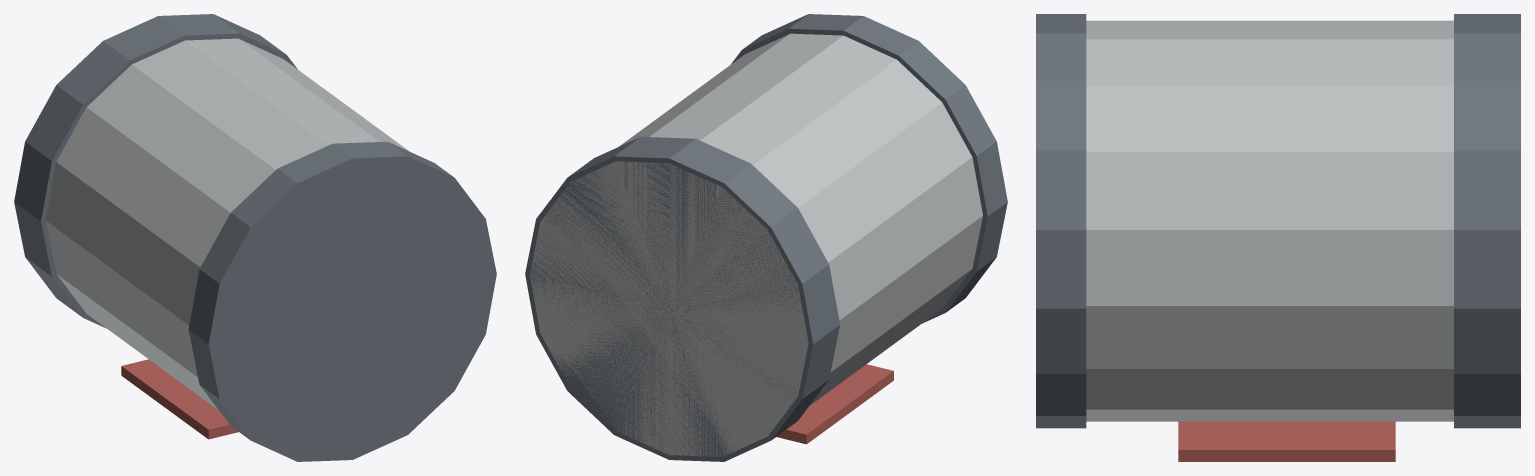
File: canned_beans.glb
3 views of the same model, side by side, from view 1: azimuth 30°, elevation 25°; view 2: azimuth 150°, elevation 25°; view 3: azimuth 270°, elevation 25° (orthographic). The views are drawn at different scales.
Visible parts, largest first — view 1: 02_top_rim, 00_can_body, 01_bottom_rim, 03_label; view 2: 00_can_body, 01_bottom_rim, 02_top_rim, 03_label; view 3: 00_can_body, 01_bottom_rim, 02_top_rim, 03_label.
Boxes of the visible parts, x1,y1,x2,y2 form: 02_top_rim: [188, 141, 496, 461]; 00_can_body: [45, 38, 409, 410]; 01_bottom_rim: [14, 14, 297, 328]; 03_label: [121, 359, 238, 439]; 00_can_body: [530, 33, 982, 456]; 01_bottom_rim: [525, 136, 839, 461]; 02_top_rim: [731, 14, 1007, 323]; 03_label: [776, 364, 893, 444]; 00_can_body: [1086, 20, 1453, 421]; 01_bottom_rim: [1454, 14, 1520, 428]; 02_top_rim: [1036, 14, 1086, 428]; 03_label: [1178, 421, 1395, 461].
Bounding box in the file's own units: 0.248 × 0.253 × 0.29.
